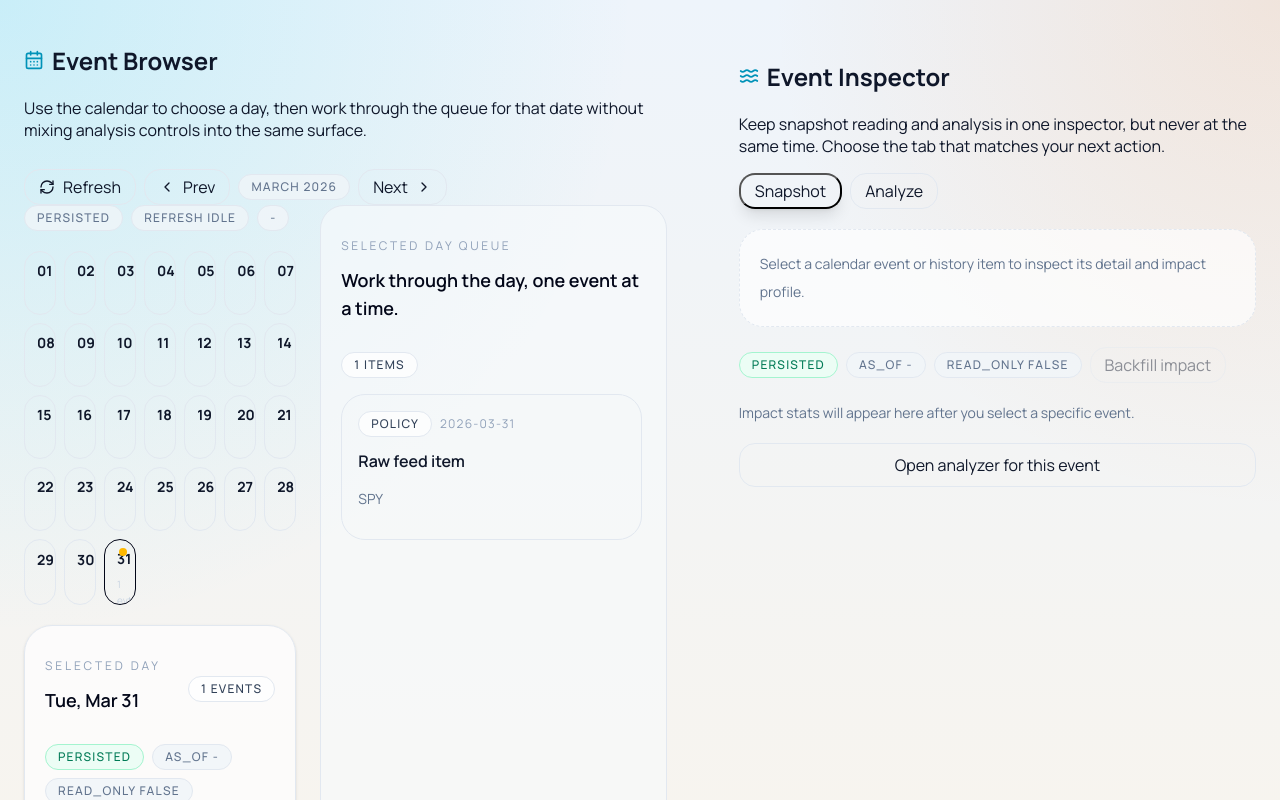
EventsPage › sanitizes raw event descriptions before rendering the detail pane
Click the button "policy 2026-03-31 Raw feed item SPY" at (395, 424), box x1=341 y1=394 x2=642 y2=540
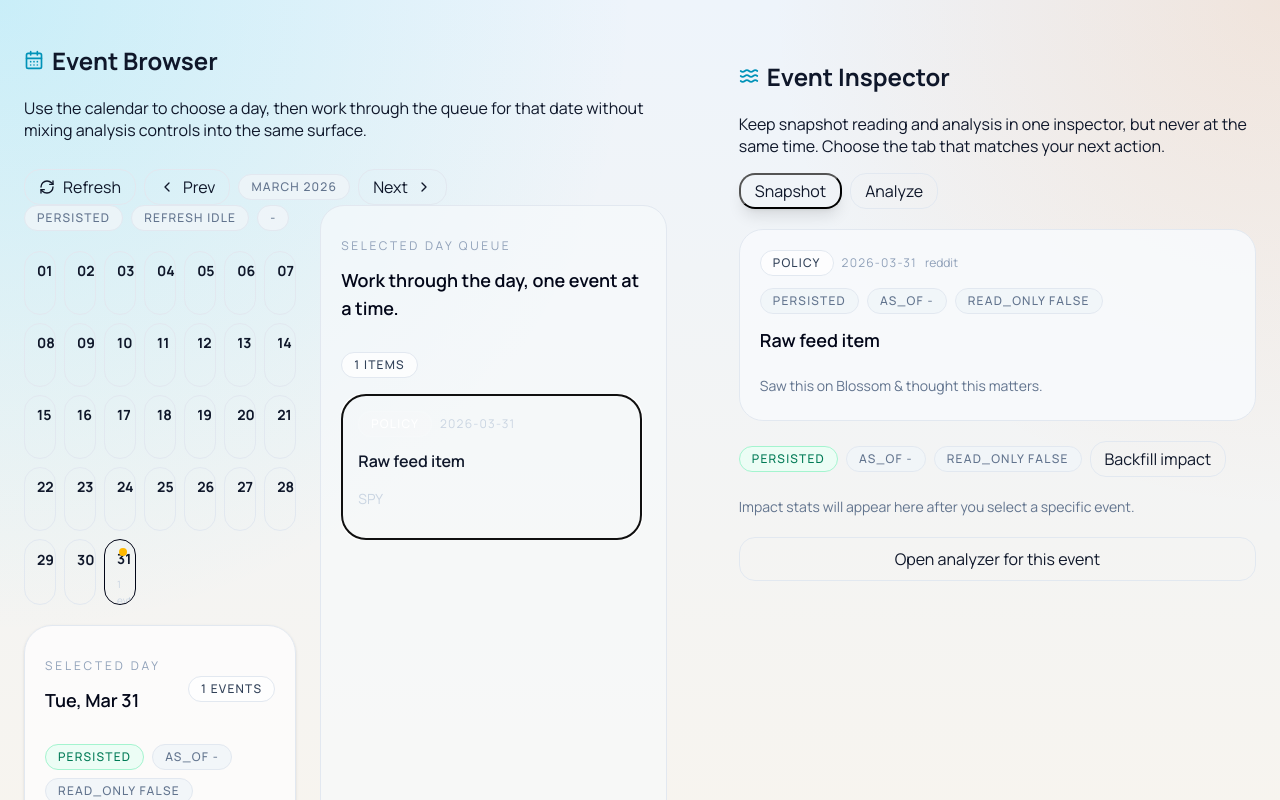
Check: the text "Saw this on Blossom & thought this matters." is shown, box x1=760 y1=376 x2=1043 y2=395
